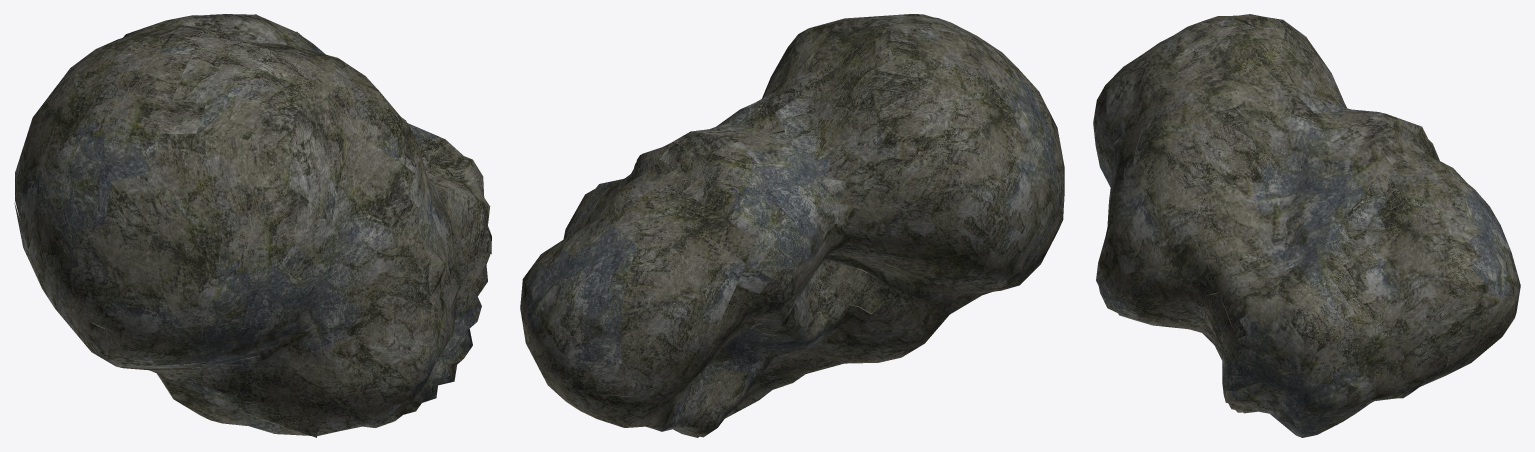
File: boulder_b.glb
The picture shows the model from 3 angles, left to right: view 1: azimuth 30°, elevation 25°; view 2: azimuth 150°, elevation 25°; view 3: azimuth 270°, elevation 25°; orthographic projection. The views are drawn at different scales.
Parts seen in each view (by area): view 1: boulder_b; view 2: boulder_b; view 3: boulder_b.
Boxes of the visible parts, x1=… form: boulder_b: x1=14, y1=14, x2=491, y2=437; boulder_b: x1=520, y1=14, x2=1064, y2=437; boulder_b: x1=1093, y1=14, x2=1520, y2=437.
Size of the model in its own units: 3.34 by 3.03 by 3.54.
Materials: 1 (1 with a texture image).
